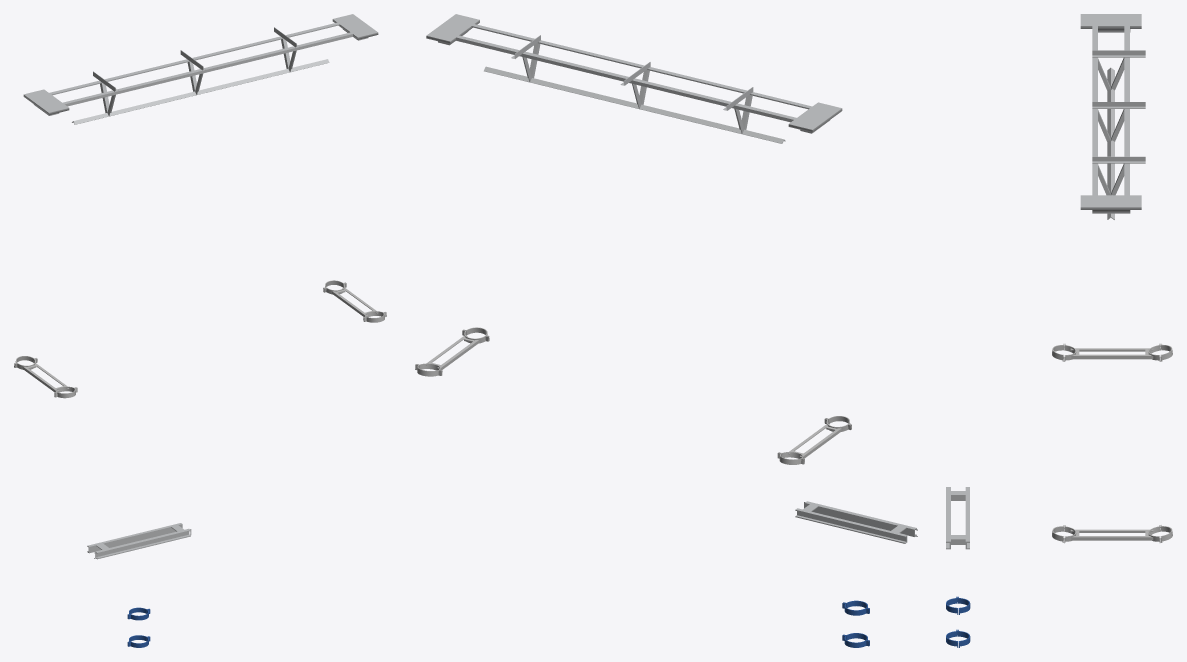
The picture shows the model from 3 angles, left to right: view 1: azimuth 30°, elevation 25°; view 2: azimuth 150°, elevation 25°; view 3: azimuth 270°, elevation 25°; orthographic projection. The views are drawn at different scales.
Visible parts, largest first — view 1: link_L-Ext05, link_C-Ext02, link_Box06; view 2: link_L-Ext05, link_C-Ext02, link_Box06; view 3: link_L-Ext05, link_Box06, link_C-Ext02, link_L-Ext03, link_L-Ext04.
Part boxes in pixels (x1,y1,x2,y2): link_L-Ext05: (46,21,356,124); link_C-Ext02: (87,523,191,559); link_Box06: (23,14,378,115); link_L-Ext05: (451,23,815,143); link_C-Ext02: (795,501,917,543); link_Box06: (426,14,842,133); link_L-Ext05: (1092,24,1145,219); link_Box06: (1080,14,1141,213); link_C-Ext02: (946,487,969,549); link_L-Ext03: (1070,348,1153,359); link_L-Ext04: (1070,529,1153,540).
Size of the model in its own units: 0.1051 by 0.1498 by 0.0505.
